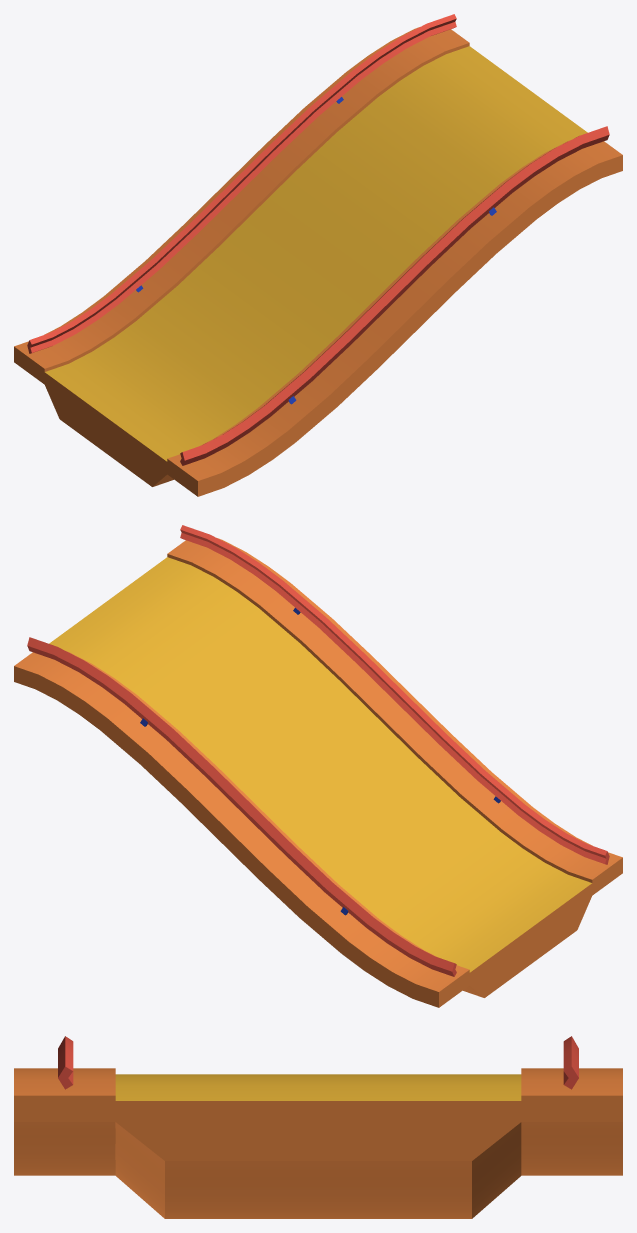
File: BridgeAscending1FBX.fbx
3 views of the same model, one above another, from view 1: azimuth 30°, elevation 25°; view 2: azimuth 150°, elevation 25°; view 3: azimuth 270°, elevation 25° (orthographic). The views are drawn at different scales.
Parts seen in each view (by area): view 1: BridgeAscending1; view 2: BridgeAscending1; view 3: BridgeAscending1.
Part boxes in pixels (<box>): BridgeAscending1: <box>14,14,622,496</box>; BridgeAscending1: <box>14,525,622,1007</box>; BridgeAscending1: <box>14,1036,622,1218</box>.
Size of the model in its own units: 100 by 62.86 by 75.
